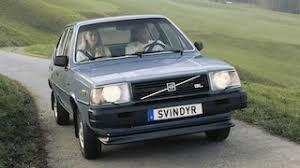license-plates: (154, 103, 204, 121)
